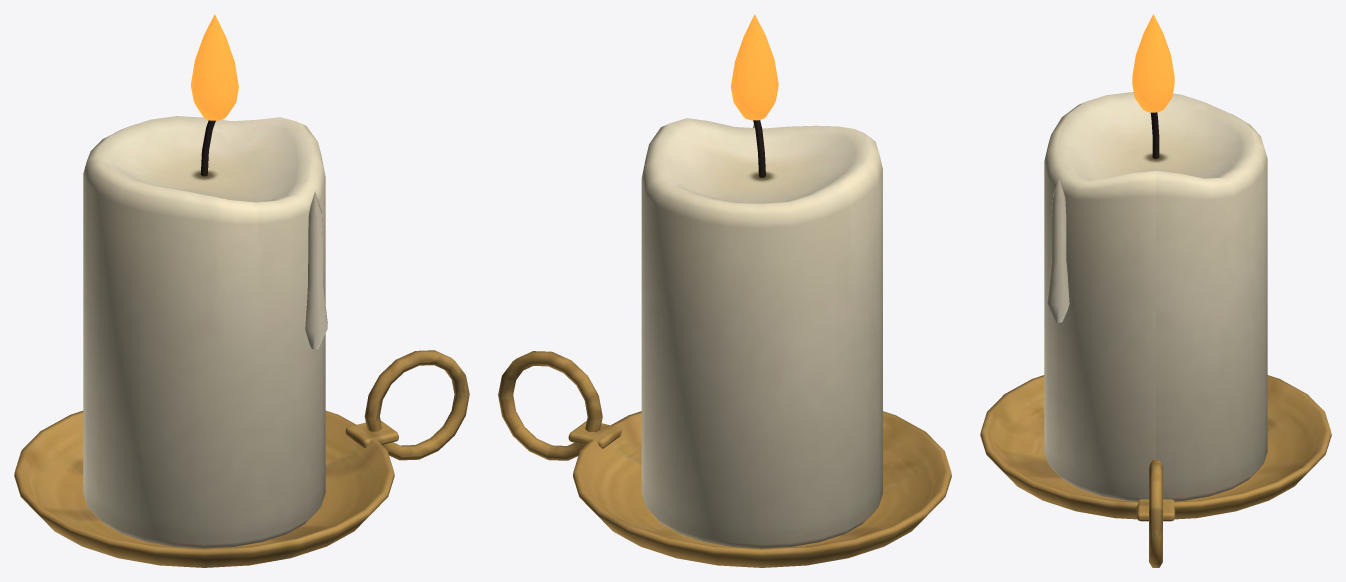
Rendered from candle.glb.
The picture shows the model from 3 angles, left to right: view 1: azimuth 30°, elevation 25°; view 2: azimuth 150°, elevation 25°; view 3: azimuth 270°, elevation 25°; orthographic projection. The views are drawn at different scales.
Parts seen in each view (by area): view 1: candle_wax, candle_holder, candle_flame; view 2: candle_wax, candle_holder, candle_flame; view 3: candle_wax, candle_holder, candle_flame.
Part boxes in pixels (left/top/right/bottom): candle_wax: left=83, top=116, right=327, bottom=548; candle_holder: left=14, top=350, right=469, bottom=567; candle_flame: left=191, top=14, right=238, bottom=120; candle_wax: left=641, top=118, right=882, bottom=548; candle_holder: left=498, top=351, right=951, bottom=567; candle_flame: left=731, top=14, right=778, bottom=120; candle_wax: left=1044, top=92, right=1267, bottom=501; candle_holder: left=980, top=375, right=1331, bottom=567; candle_flame: left=1132, top=14, right=1174, bottom=112.
Bounding box in the file's own units: 1.43 × 1.58 × 1.1.
Materials: 3 (2 with a texture image).
